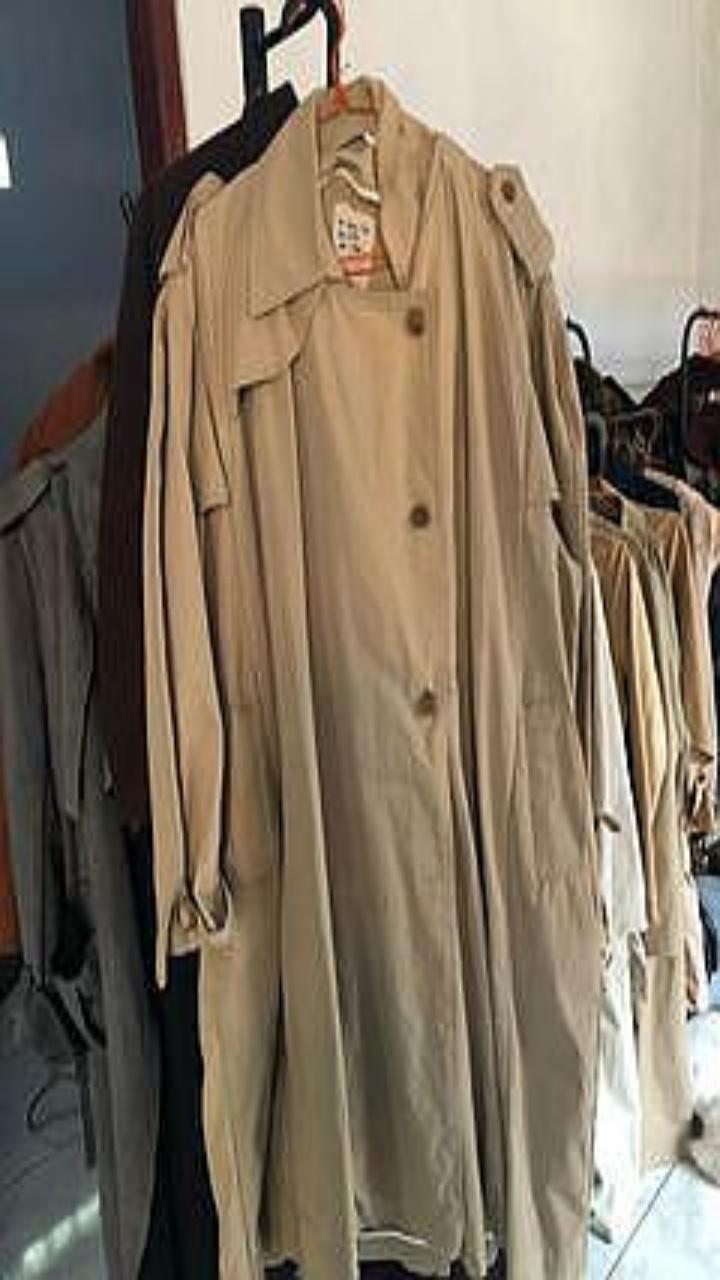Coat: (145, 82, 601, 1279), (0, 423, 158, 1279)
